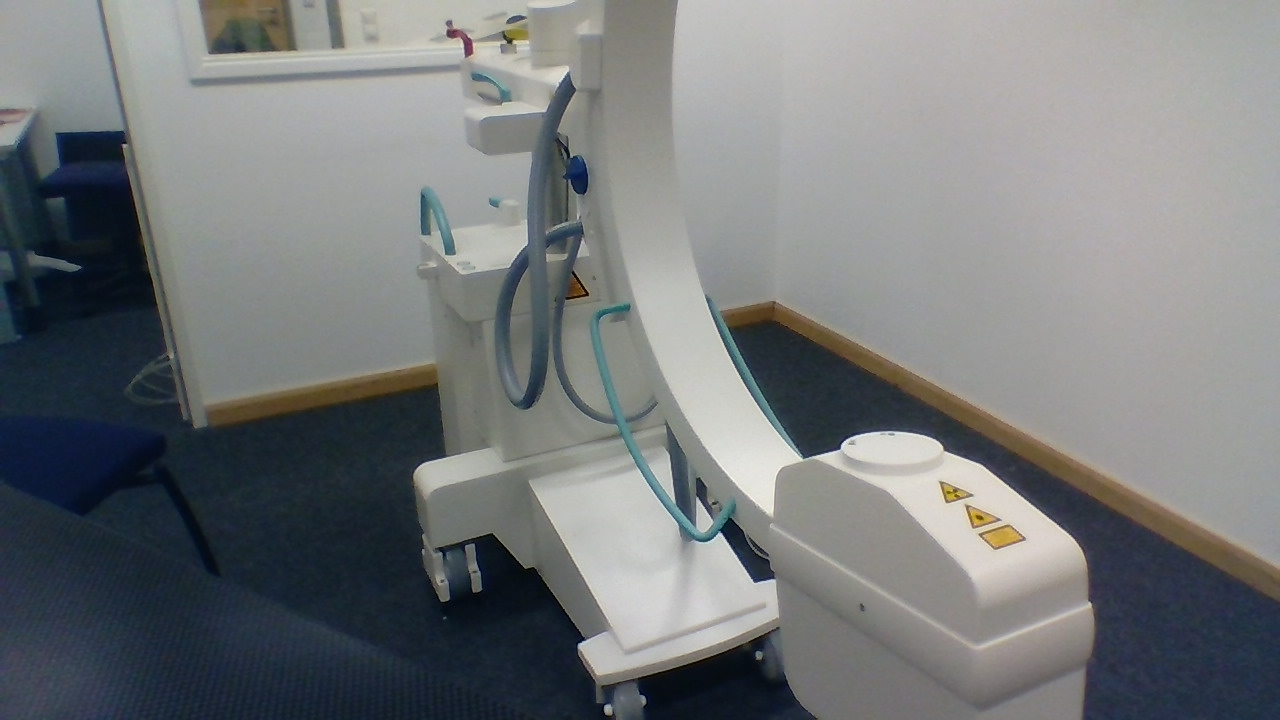carmBACK: (486, 195, 522, 226)
carmDOWN: (756, 428, 1094, 652)
carmLOCK: (561, 154, 591, 197)
